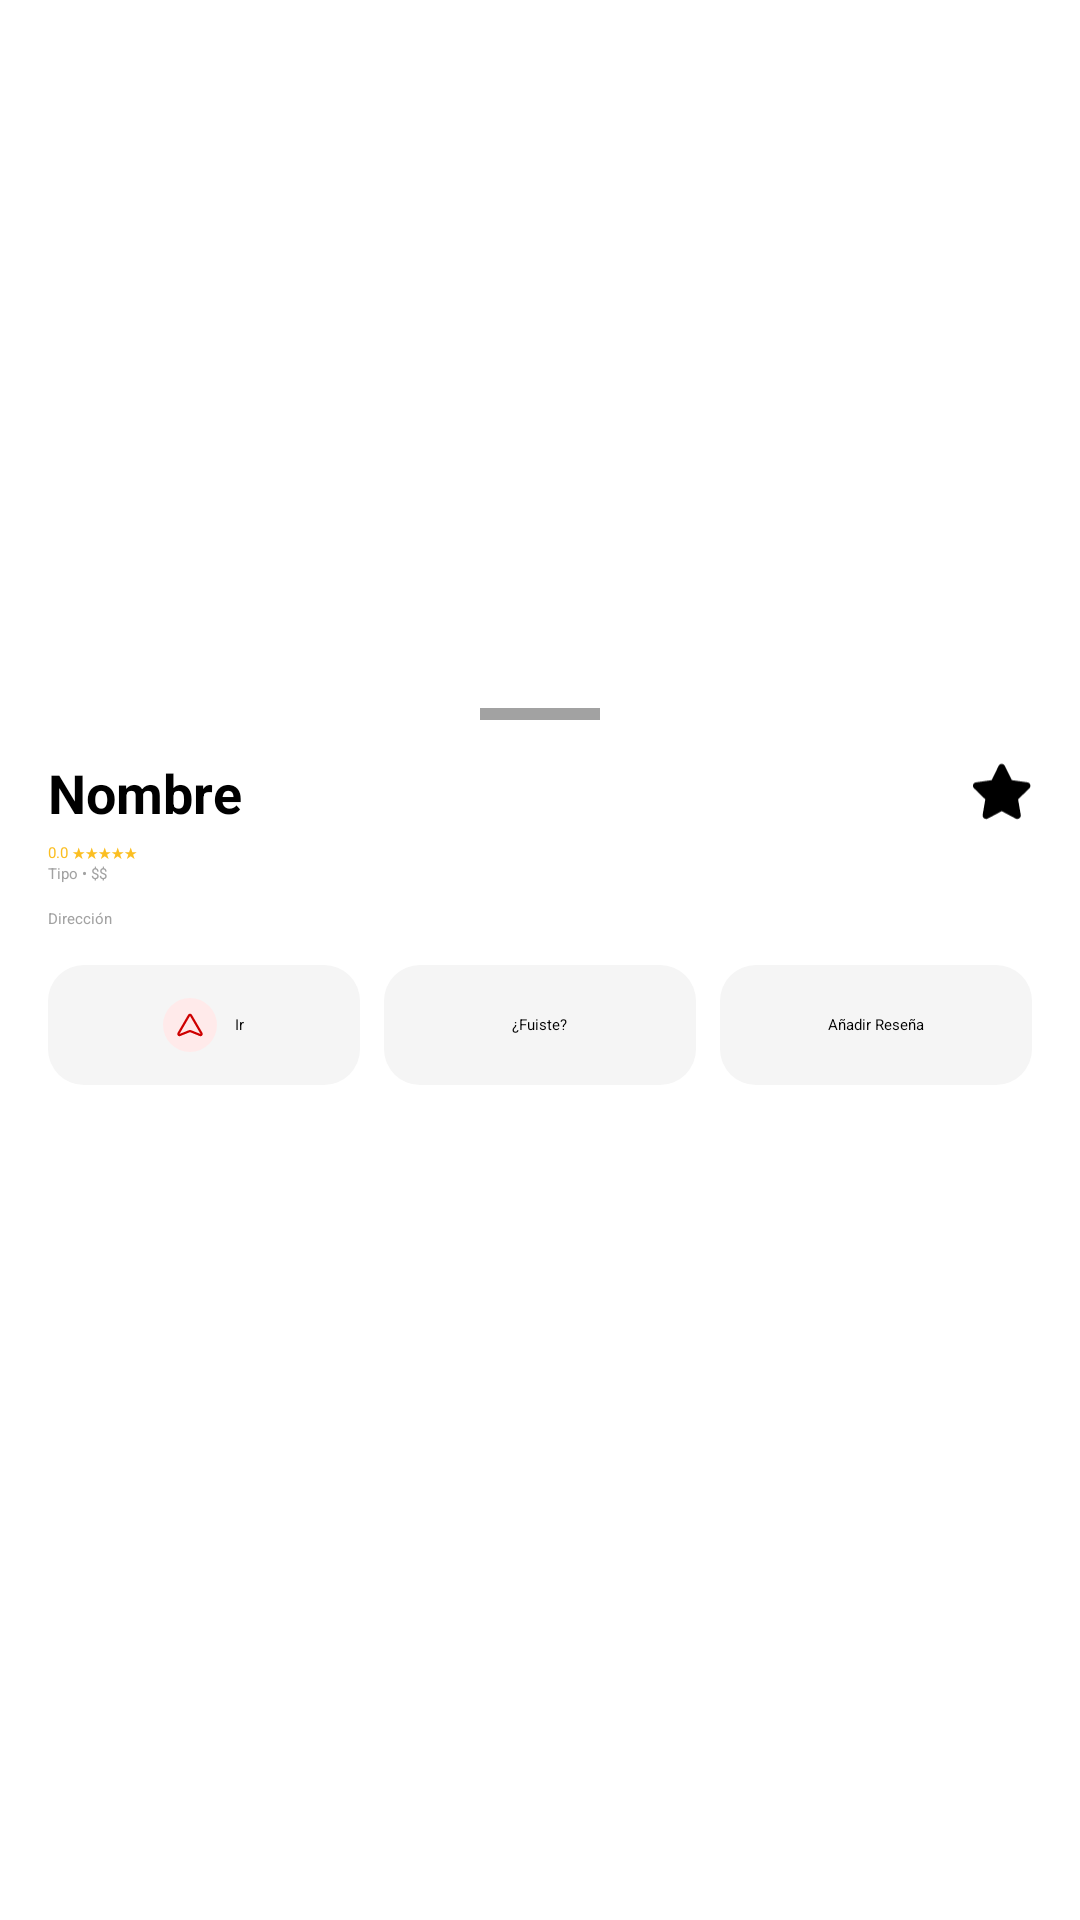

Point at icon controls on the screen. Image size 1080*1920, points as point (x, y).
arrow map: point (190, 1025)
star: point (1002, 791)
